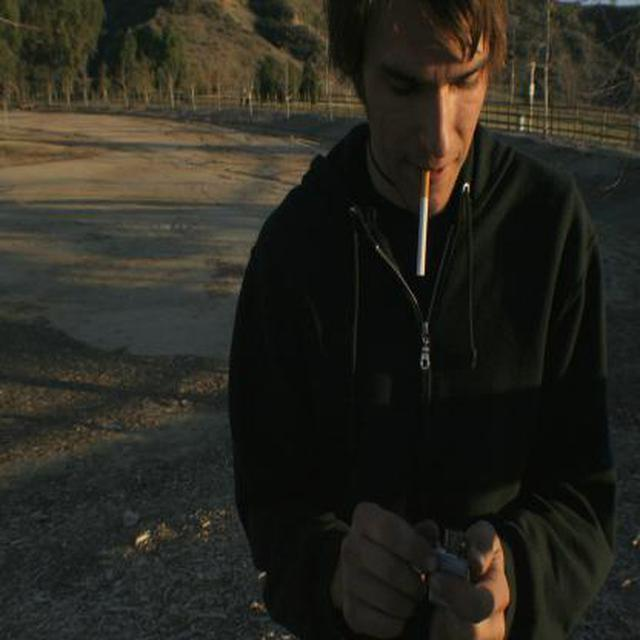smoking: (416, 165, 429, 277)
